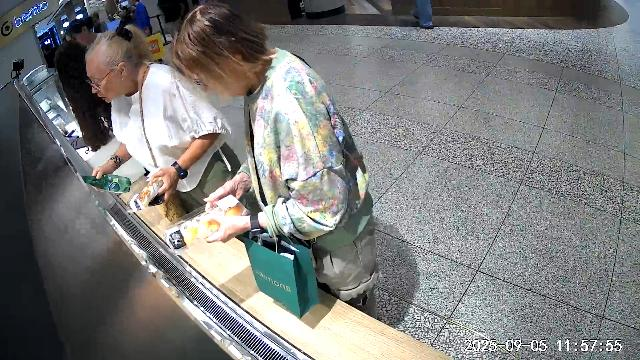sushi-box: (163, 194, 250, 254), (126, 167, 166, 212)
